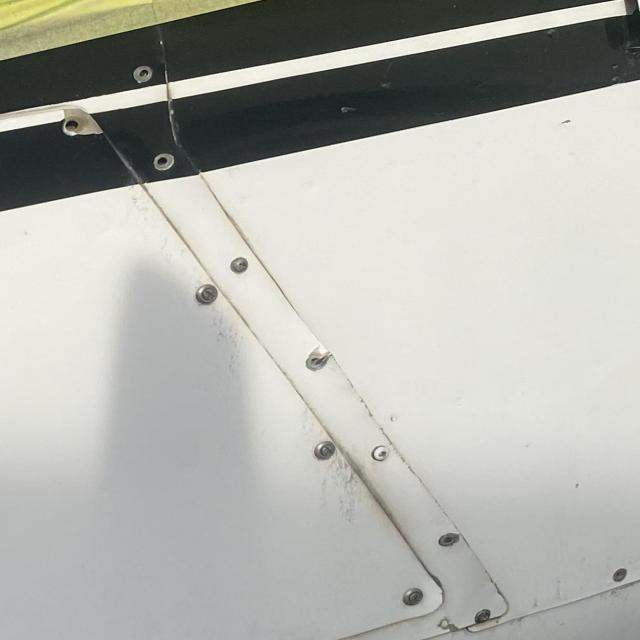Missing-head: (58, 113, 96, 139), (153, 152, 178, 172), (133, 64, 155, 84), (438, 532, 463, 549), (610, 568, 629, 584)
Paint-off: (561, 119, 575, 124)
